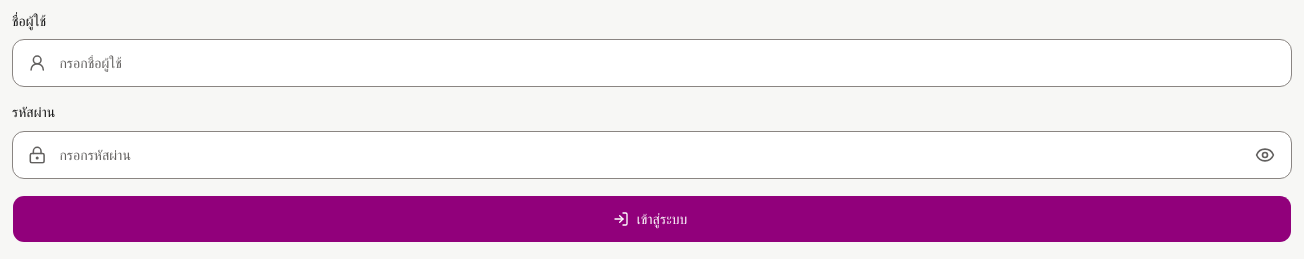
Test: Admin authentication forms › keeps the login password while toggling its visibility
In the password field labelled "รหัสผ่าน": point(652, 154) [12,130,1292,178], type "temporary-password-value"
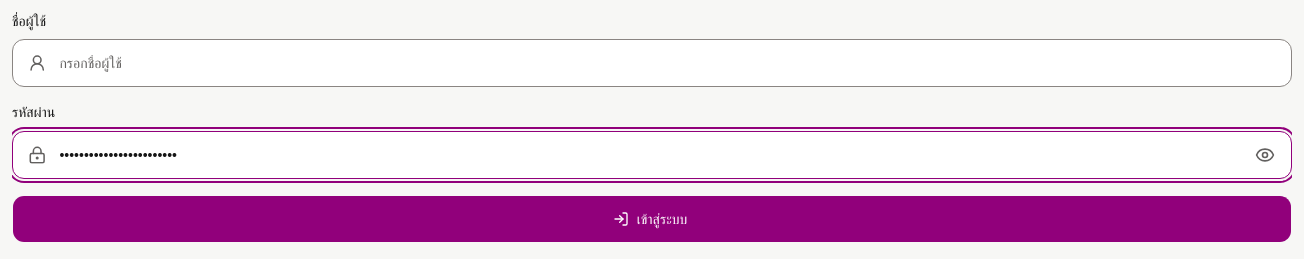
Click the button named "แสดงรหัสผ่าน": point(1265, 154) [1245,134,1285,174]
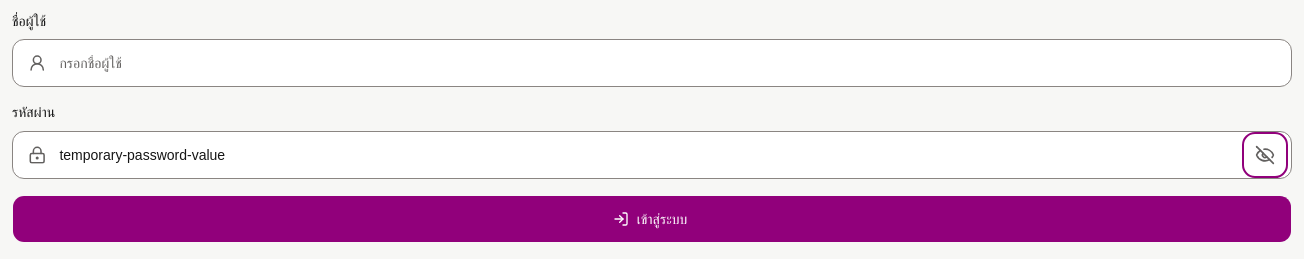
Check: the button named "ซ่อนรหัสผ่าน" is shown, box [1245,134,1285,174]
